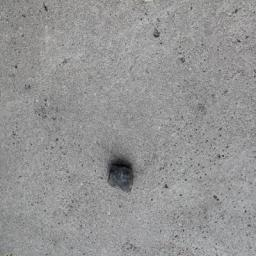FOD: (107, 161, 137, 198)
